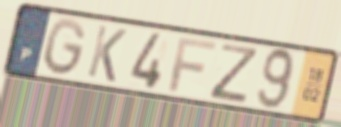4: (128, 30, 165, 91)
9: (254, 46, 296, 113)
F: (166, 36, 218, 95)
G: (42, 17, 89, 79)
K: (84, 23, 129, 85)
Z: (206, 41, 261, 106)
